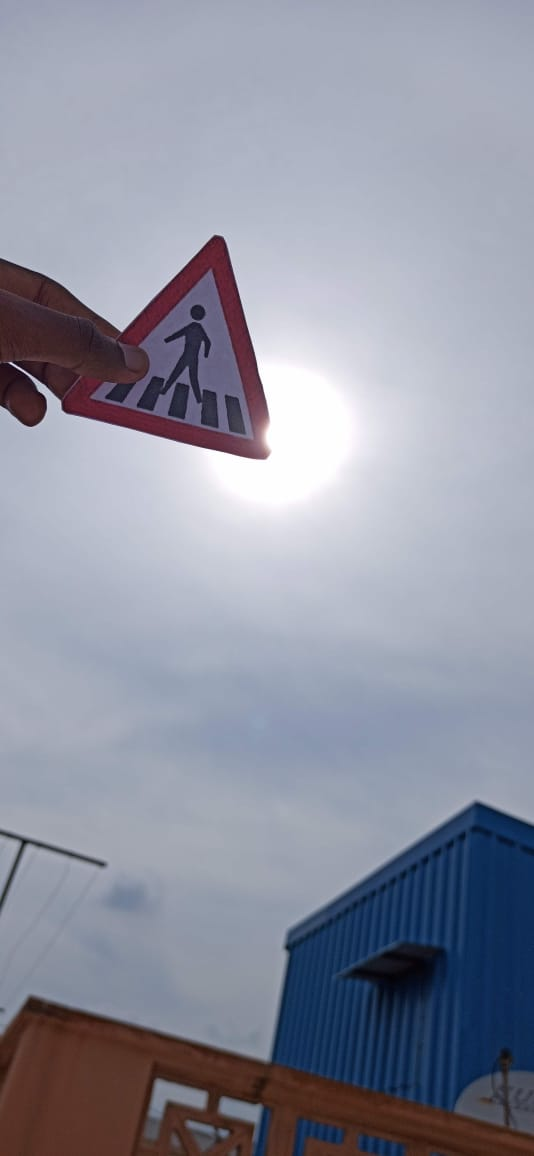PEDESTRIAN CROSSING: (88, 226, 289, 470)
